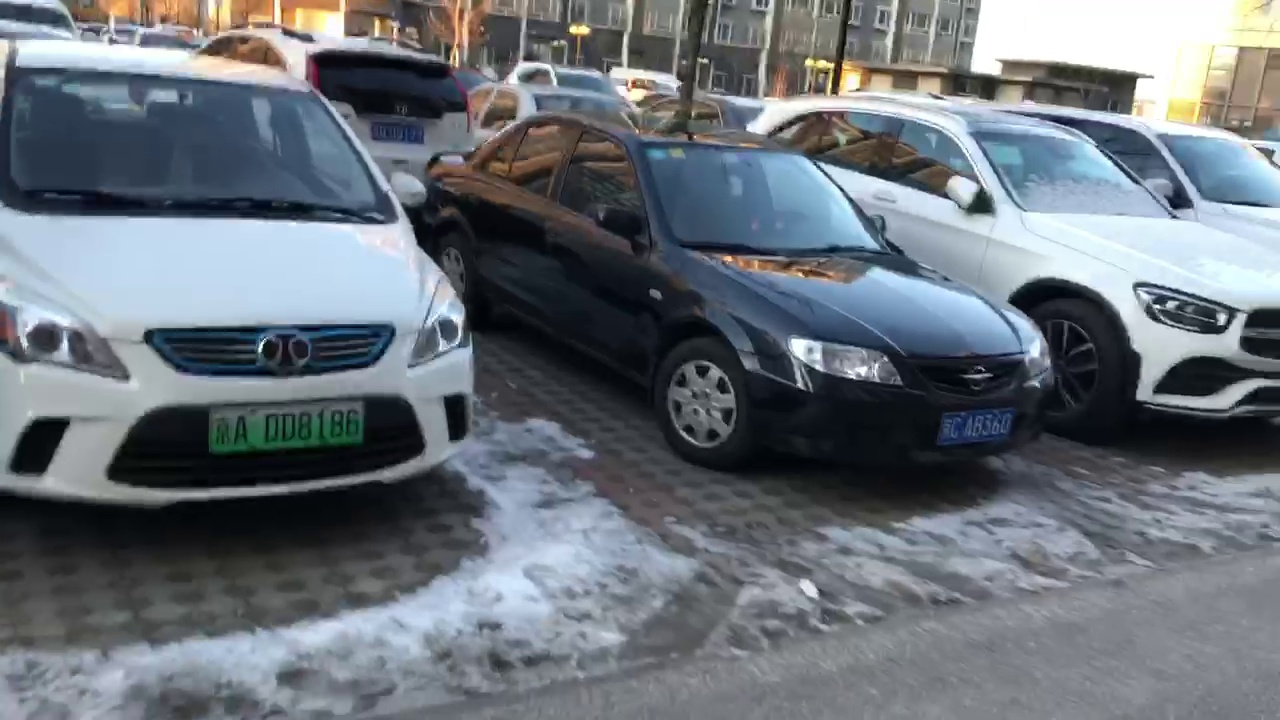plate: (209, 405, 374, 446), (945, 414, 1021, 444)
